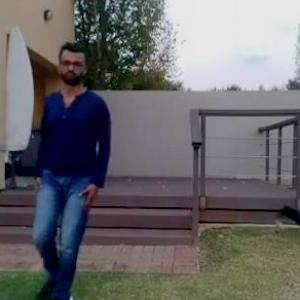follow: (28, 36, 121, 299)
